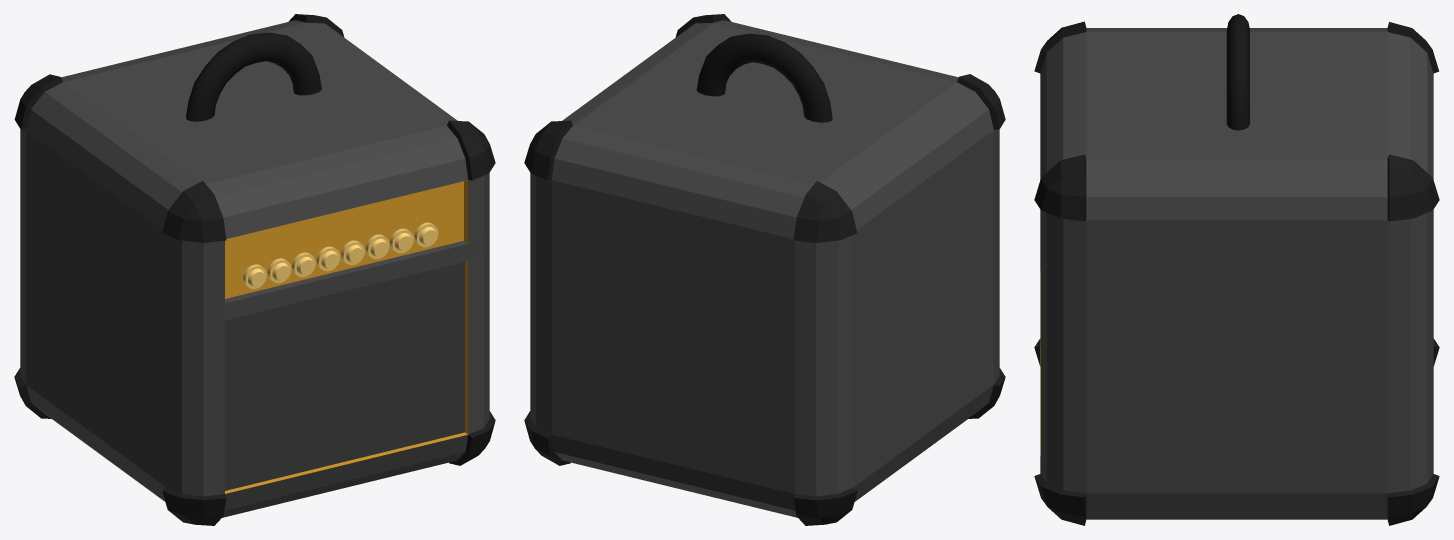
The model's file is Amplifier.fbx.
3 views of the same model, side by side, from view 1: azimuth 30°, elevation 25°; view 2: azimuth 150°, elevation 25°; view 3: azimuth 270°, elevation 25° (orthographic). The views are drawn at different scales.
Visible parts, largest first — view 1: Cube.004; view 2: Cube.004; view 3: Cube.004.
Boxes of the visible parts, x1,y1,x2,y2 form: Cube.004: (14, 14, 495, 525); Cube.004: (524, 14, 1005, 525); Cube.004: (1034, 14, 1439, 525).
Size of the model in its own units: 99.23 by 118 by 99.23.
